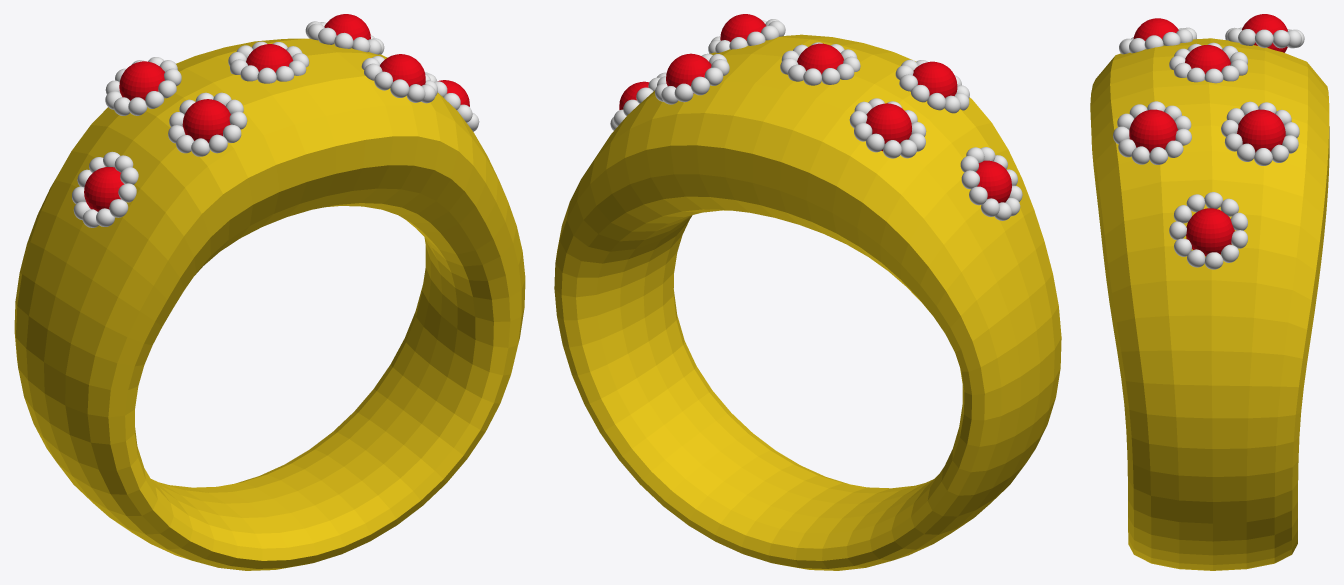
File: bague.glb
The picture shows the model from 3 angles, left to right: view 1: azimuth 30°, elevation 25°; view 2: azimuth 150°, elevation 25°; view 3: azimuth 270°, elevation 25°; orthographic projection.
Visible parts, largest first — view 1: Circle, Sphere.005, Sphere.007, Sphere.006, Sphere, Sphere.014, Sphere.003, Sphere.013, Sphere.012, Sphere.002, Sphere.010, Sphere.008 (+2 smaller); view 2: Circle, Sphere.005, Sphere.006, Sphere, Sphere.007, Sphere.002, Sphere.013, Sphere.014, Sphere.012, Sphere.003, Sphere.009, Sphere.008 (+2 smaller); view 3: Circle, Sphere.004, Sphere.002, Sphere.003, Sphere.011, Sphere, Sphere.010, Sphere.009, Sphere.006, Sphere.007, Sphere.008, Sphere.013 (+1 smaller).
Boxes of the visible parts, box(x1,y1,x2,y2) form: Circle: box(14, 38, 525, 570); Sphere.005: box(72, 151, 138, 227); Sphere.007: box(168, 92, 247, 156); Sphere.006: box(105, 57, 181, 115); Sphere: box(228, 41, 309, 83); Sphere.014: box(182, 99, 230, 143); Sphere.003: box(361, 56, 437, 103); Sphere.013: box(119, 61, 164, 100); Sphere.012: box(84, 167, 124, 211); Sphere.002: box(305, 21, 384, 54); Sphere.010: box(380, 54, 425, 86); Sphere.008: box(246, 44, 292, 72); Circle: box(554, 34, 1061, 570); Sphere.005: box(960, 147, 1022, 220); Sphere.006: box(849, 98, 926, 158); Sphere: box(780, 42, 860, 85); Sphere.007: box(895, 59, 969, 113); Sphere.002: box(655, 53, 729, 104); Sphere.013: box(866, 103, 911, 151); Sphere.014: box(913, 61, 957, 97); Sphere.012: box(976, 160, 1011, 203); Sphere.003: box(708, 19, 785, 53); Sphere.009: box(666, 53, 711, 93); Sphere.008: box(797, 43, 843, 74); Circle: box(1090, 38, 1329, 570); Sphere.004: box(1169, 192, 1247, 269); Sphere.002: box(1221, 101, 1299, 165); Sphere.003: box(1113, 101, 1191, 164); Sphere.011: box(1186, 208, 1234, 256); Sphere: box(1169, 42, 1247, 83); Sphere.010: box(1129, 109, 1177, 153); Sphere.009: box(1237, 109, 1285, 152); Sphere.006: box(1225, 27, 1304, 48); Sphere.007: box(1119, 27, 1196, 54); Sphere.008: box(1185, 45, 1230, 74); Sphere.013: box(1242, 14, 1287, 52).
Size of the model in its own units: 16.88 by 17.75 by 7.76.
